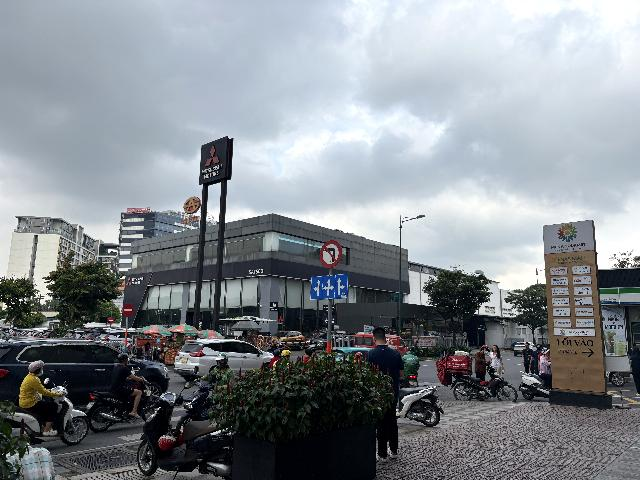cam-di-nguoc-chieu: (122, 303, 134, 316)
cam-re-trai: (320, 240, 342, 268)
